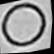no answer: (0, 0, 51, 51)
